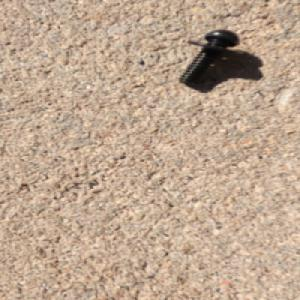BoltWasher: (177, 28, 244, 85)
